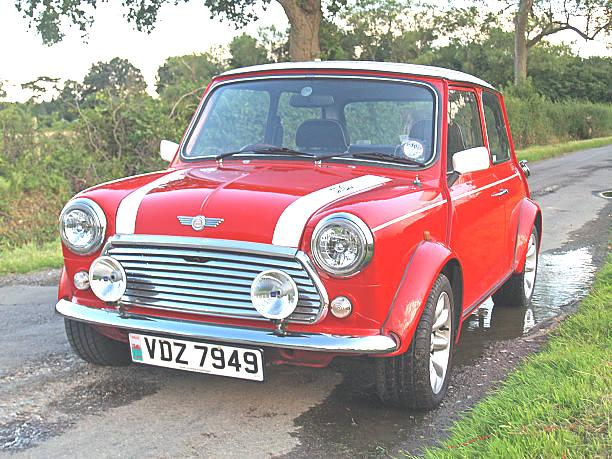mini: (173, 208, 229, 241)
